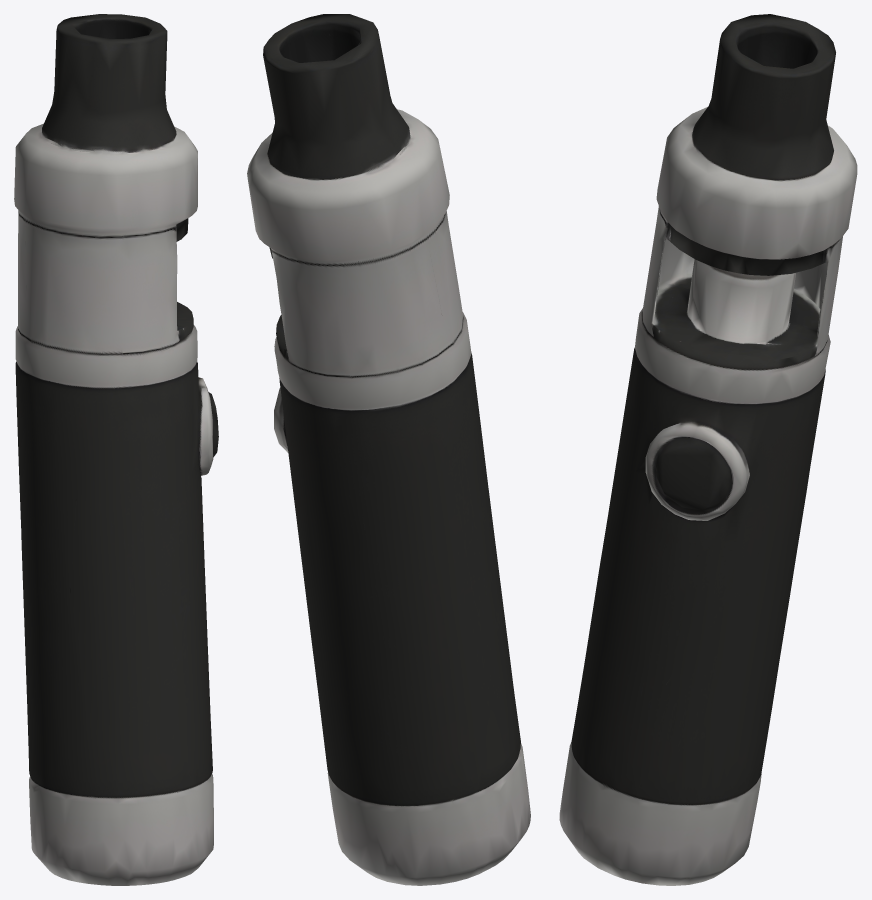
The model's file is vape.glb.
3 views of the same model, side by side, from view 1: azimuth 30°, elevation 25°; view 2: azimuth 150°, elevation 25°; view 3: azimuth 270°, elevation 25° (orthographic). The views are drawn at different scales.
Parts seen in each view (by area): view 1: tripo_node_840b1bec-2042-4c79-91ba-ab27dc7a417b; view 2: tripo_node_840b1bec-2042-4c79-91ba-ab27dc7a417b; view 3: tripo_node_840b1bec-2042-4c79-91ba-ab27dc7a417b.
Boxes of the visible parts, bbox=[...] form: tripo_node_840b1bec-2042-4c79-91ba-ab27dc7a417b: bbox=[14, 14, 218, 885]; tripo_node_840b1bec-2042-4c79-91ba-ab27dc7a417b: bbox=[247, 14, 530, 885]; tripo_node_840b1bec-2042-4c79-91ba-ab27dc7a417b: bbox=[559, 14, 857, 885].
Bounding box in the file's own units: 0.2514 × 1 × 0.3192.
1 material, 1 textured.
